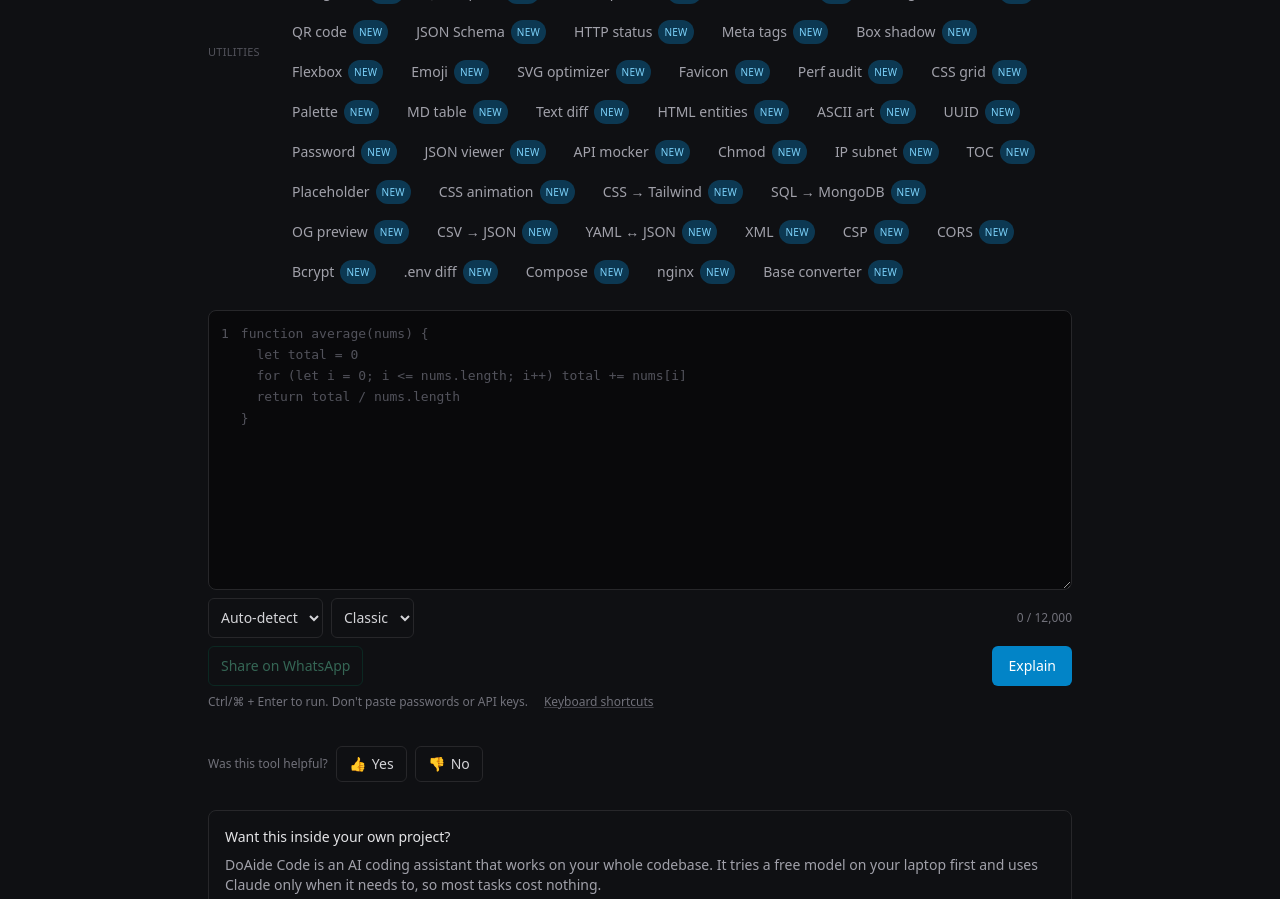
it: CodeToolsPage › remembers a run in the recent snippets history
(page scrolled)
Replace the text in the text box with test id "tool-code" with "x = 1" at (654, 450), box [237,311,1071,588]
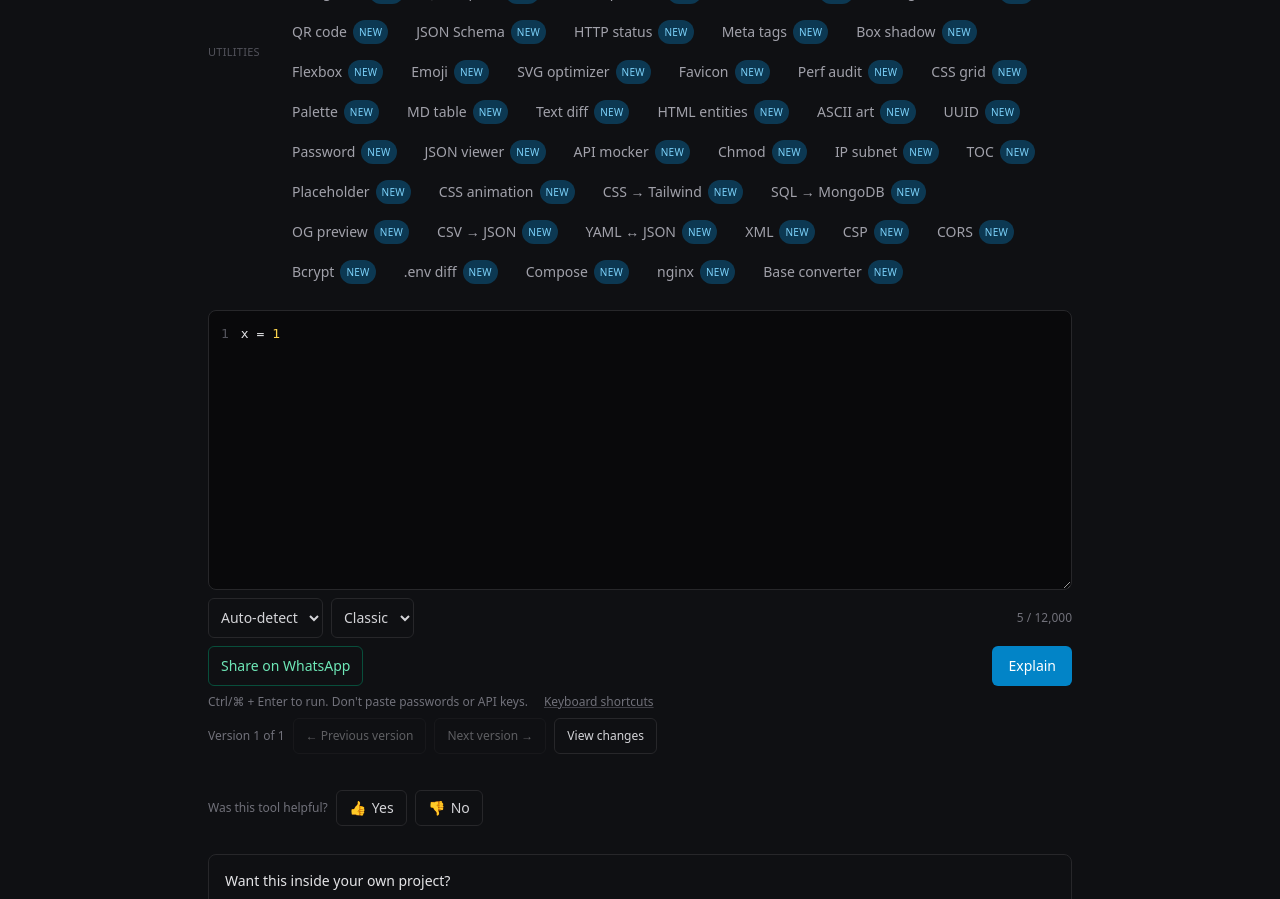
Click the button with test id "tool-run".
click(1032, 666)  # box [992,646,1072,686]
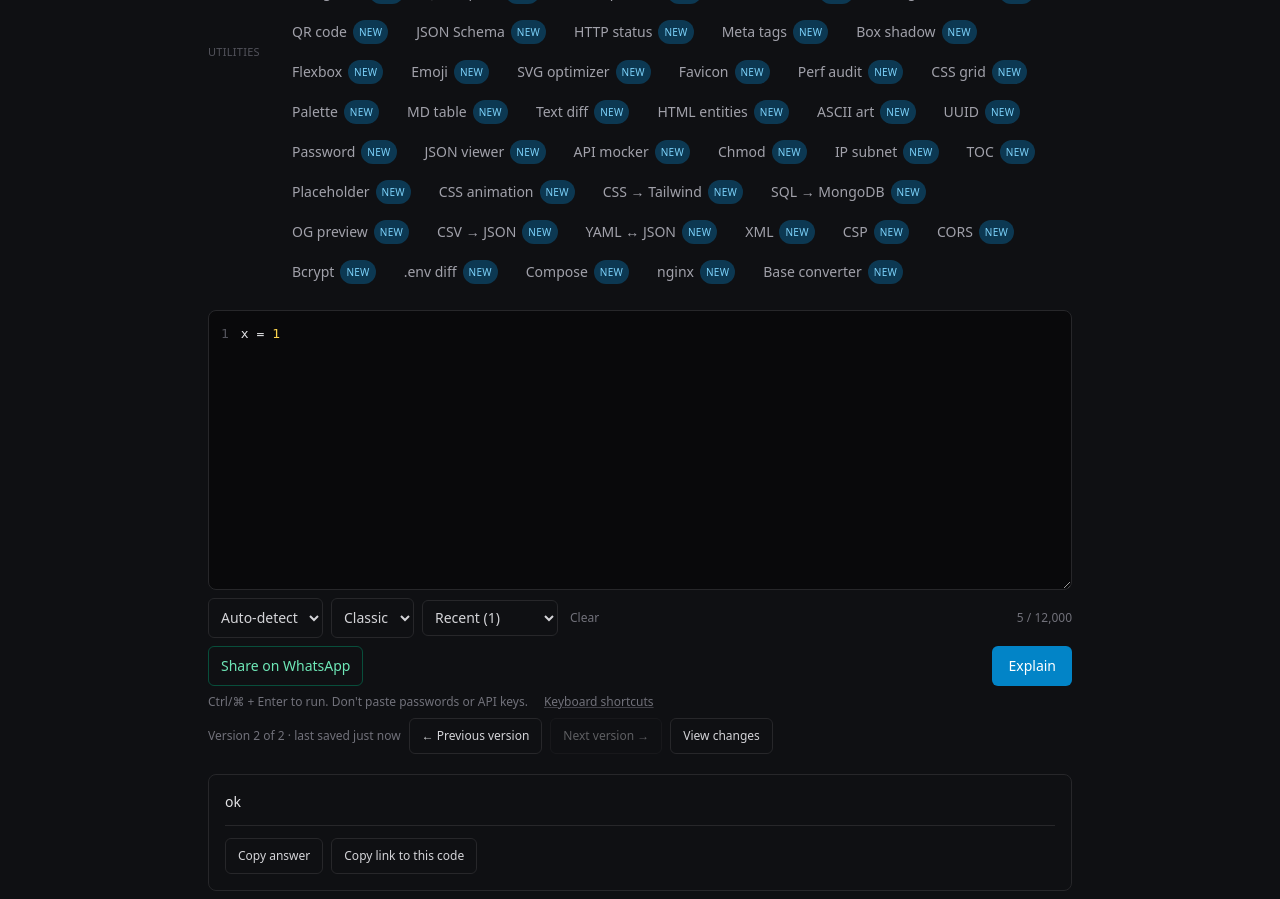
Now the element with test id "tool-answer" is shown, box [225,792,241,810]
